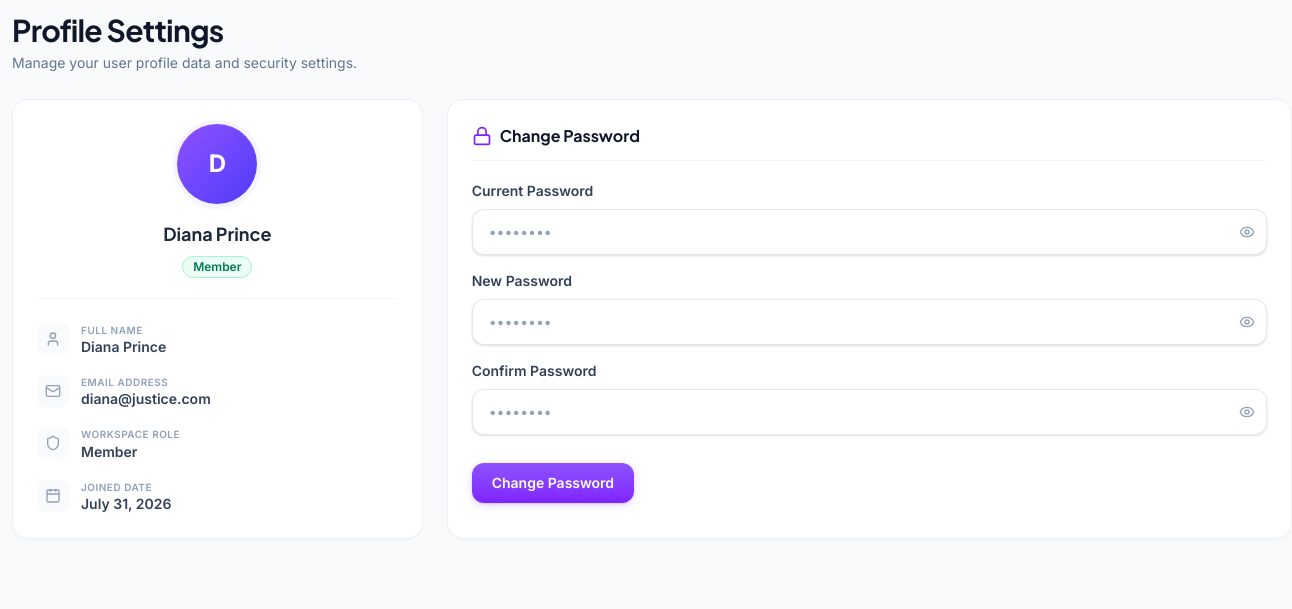
Profile Page › handles frontend validation password mismatch
Type "password123" into the password field labelled "Current Password" at (869, 232), box x1=472 y1=209 x2=1267 y2=255
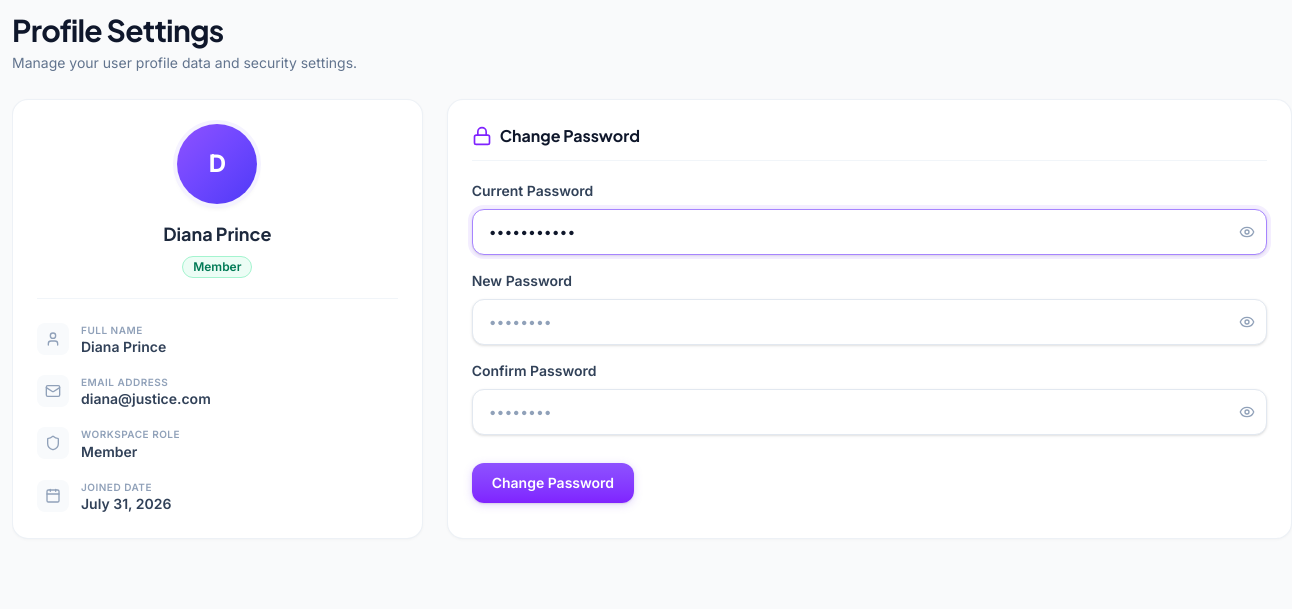
Type "newpassword456" into the password field labelled "New Password" at (869, 322), box x1=472 y1=299 x2=1267 y2=345
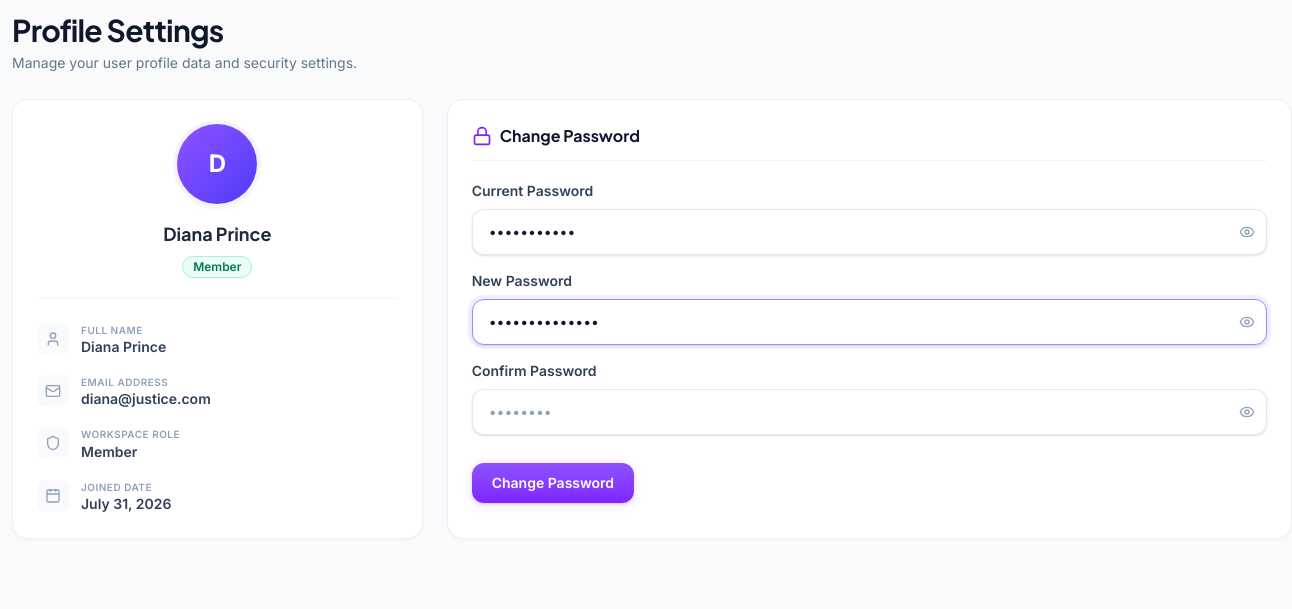
Type "mismatching" into the password field labelled "Confirm Password" at (869, 412), box x1=472 y1=389 x2=1267 y2=435
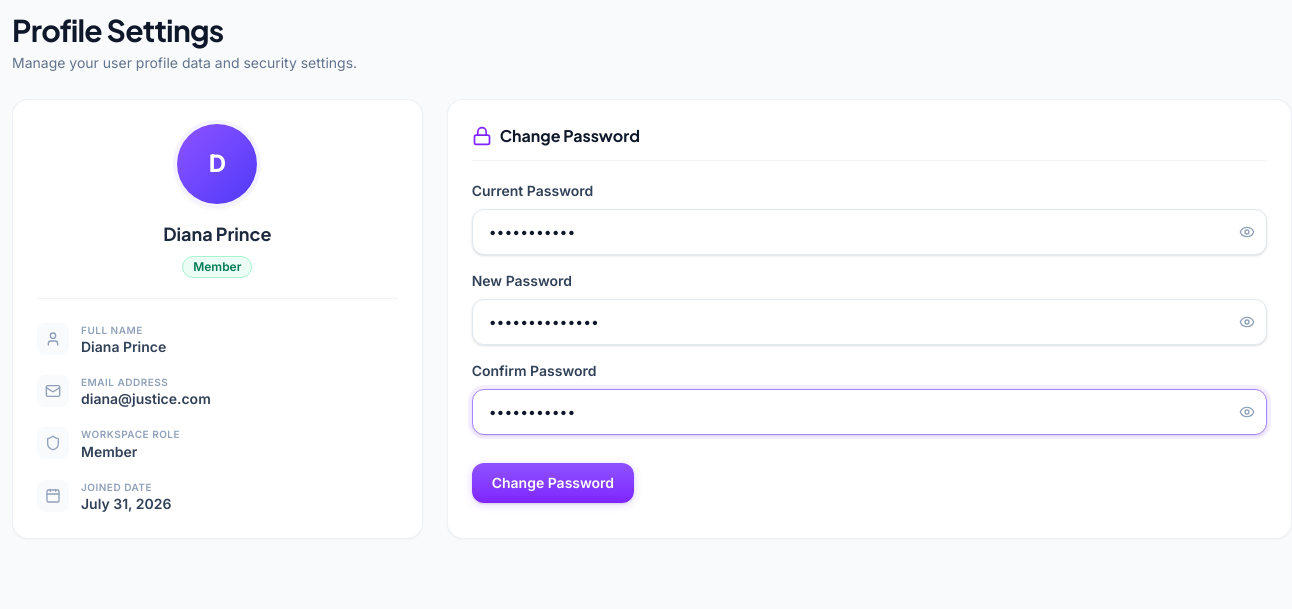
Click the button "Change Password" at (553, 483), box x1=472 y1=463 x2=634 y2=503
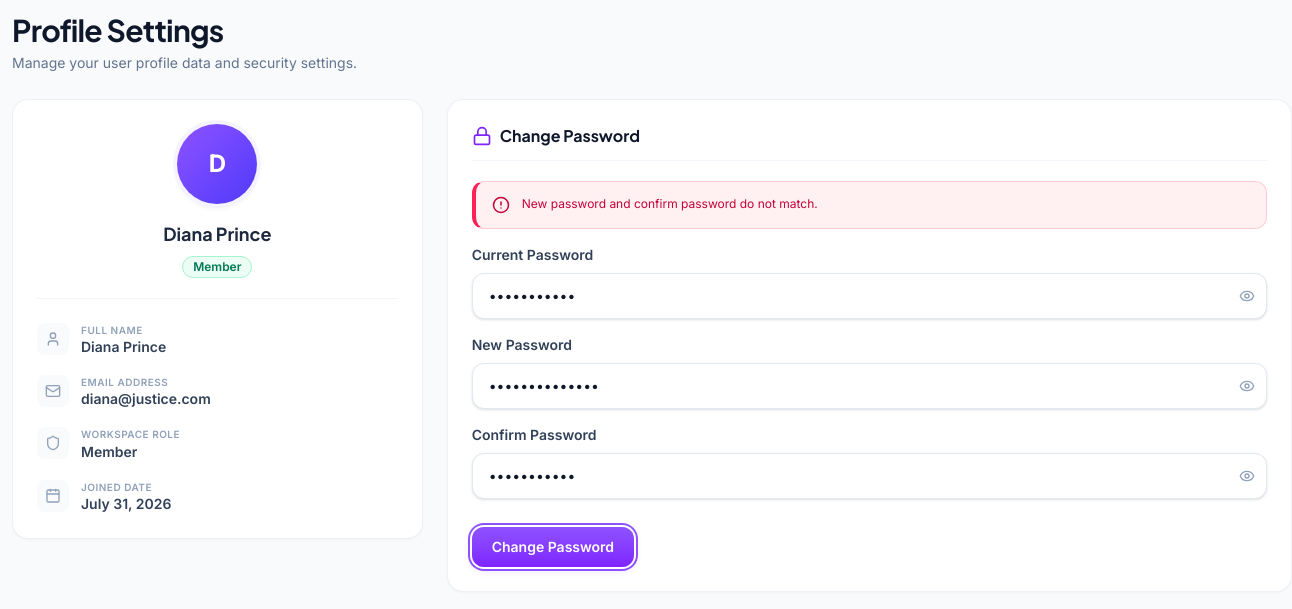
Check: the text "New password and confirm password do not match." is shown, box x1=522 y1=196 x2=818 y2=212
